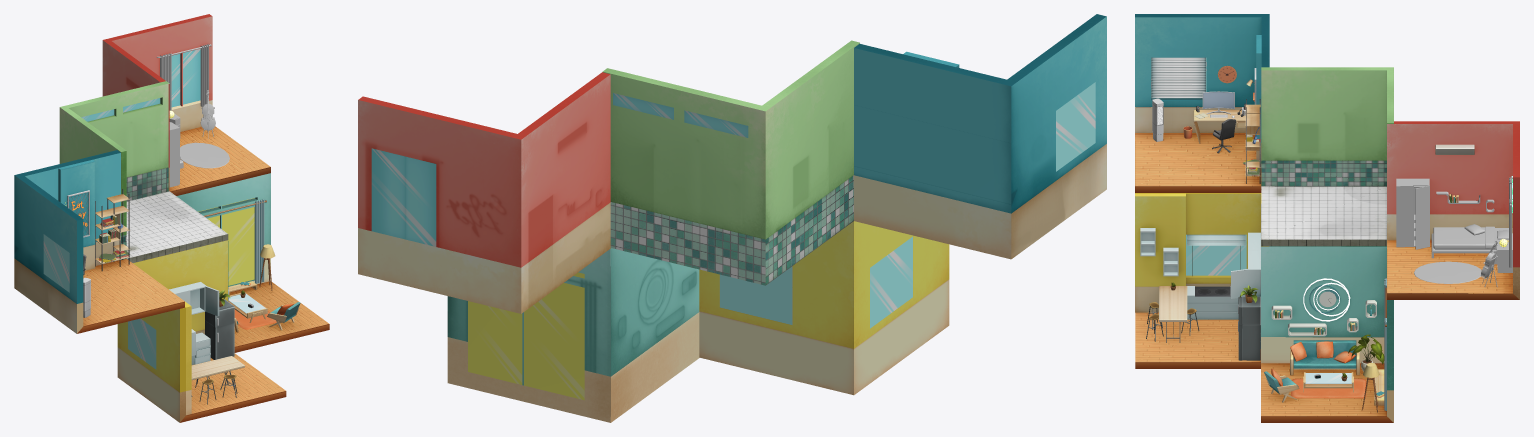
The model's file is isometric-room.fbx.
3 renders of one model, left to right at view 1: azimuth 30°, elevation 25°; view 2: azimuth 150°, elevation 25°; view 3: azimuth 270°, elevation 25°, orthographic. The views are drawn at different scales.
Parts seen in each view (by area): view 1: 3, 72, 193, 98, 157, 59, 124, 183, 16, 144, 170, 111 (+1 smaller); view 2: 3, 98, 72, 157, 193; view 3: 72, 3, 98, 157, 193, 170, 59, 124, 111, 183, 16, 144 (+2 smaller).
Boxes of the visible parts, left/top/right/bottom form: 3: left=14, top=150, right=184, bottom=333; 72: left=59, top=81, right=228, bottom=262; 193: left=117, top=240, right=286, bottom=422; 98: left=102, top=14, right=270, bottom=195; 157: left=176, top=173, right=329, bottom=352; 59: left=169, top=282, right=244, bottom=404; 124: left=156, top=44, right=215, bottom=187; 183: left=204, top=199, right=300, bottom=330; 16: left=65, top=189, right=130, bottom=271; 144: left=205, top=299, right=234, bottom=359; 170: left=228, top=200, right=299, bottom=332; 111: left=169, top=44, right=229, bottom=168; 3: left=854, top=14, right=1106, bottom=259; 98: left=358, top=72, right=610, bottom=313; 72: left=602, top=40, right=859, bottom=285; 157: left=447, top=248, right=699, bottom=422; 193: left=699, top=221, right=949, bottom=395; 72: left=1261, top=67, right=1393, bottom=246; 3: left=1135, top=14, right=1269, bottom=192; 98: left=1387, top=121, right=1519, bottom=299; 157: left=1261, top=246, right=1393, bottom=422; 193: left=1135, top=193, right=1268, bottom=368; 170: left=1170, top=194, right=1508, bottom=412; 59: left=1140, top=228, right=1260, bottom=359; 124: left=1396, top=177, right=1512, bottom=286; 111: left=1414, top=176, right=1512, bottom=283; 183: left=1264, top=195, right=1452, bottom=410; 16: left=1193, top=66, right=1260, bottom=183; 144: left=1238, top=296, right=1260, bottom=360.
Size of the model in its own units: 218385 by 154352 by 217143.
